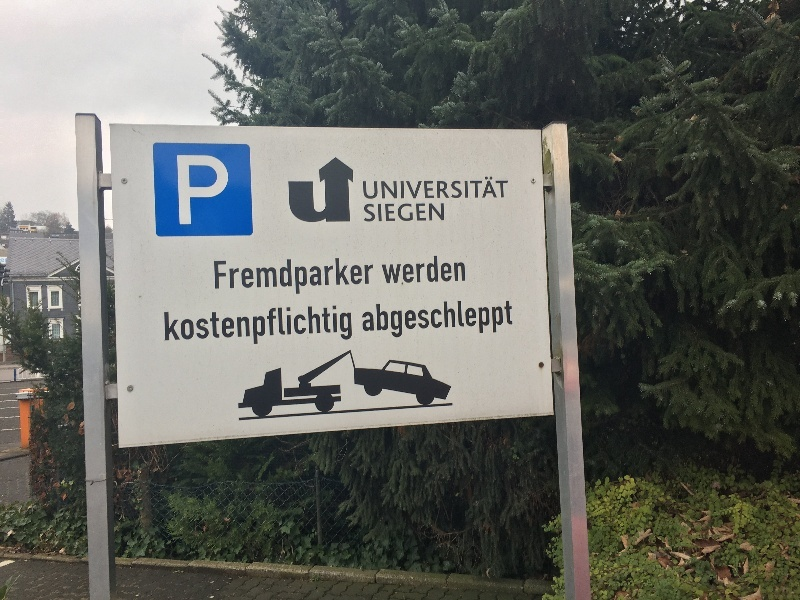text: (177, 155, 192, 226), (193, 155, 208, 226), (209, 155, 224, 226), (497, 301, 513, 341), (177, 304, 192, 346), (193, 304, 208, 346), (209, 304, 224, 346), (225, 304, 240, 346), (241, 304, 256, 346), (257, 304, 272, 346), (273, 304, 288, 346), (289, 304, 304, 346), (305, 304, 320, 346), (321, 304, 336, 346), (337, 304, 352, 346), (225, 258, 240, 298), (241, 258, 256, 298), (257, 258, 272, 298), (273, 258, 288, 298), (289, 258, 304, 298), (305, 258, 320, 298), (321, 258, 336, 298), (337, 258, 352, 298), (353, 258, 368, 298), (369, 301, 384, 341), (385, 301, 400, 341), (401, 301, 416, 341), (417, 301, 432, 341), (433, 301, 448, 341), (449, 301, 464, 341), (465, 301, 480, 341), (481, 301, 496, 341), (385, 251, 400, 285), (401, 251, 416, 285), (417, 251, 432, 285), (433, 251, 448, 285), (449, 251, 464, 285), (164, 304, 176, 346), (214, 258, 224, 298), (369, 176, 384, 201), (385, 176, 400, 201), (401, 176, 416, 201), (417, 176, 432, 201), (433, 176, 448, 201), (449, 176, 464, 201), (465, 176, 480, 201), (481, 176, 496, 201), (369, 203, 384, 222), (385, 203, 400, 222), (401, 203, 416, 222), (417, 203, 432, 222), (225, 155, 229, 226), (497, 176, 508, 201), (433, 203, 445, 222), (369, 258, 374, 298), (363, 301, 368, 341), (381, 251, 384, 285), (364, 176, 368, 201), (364, 203, 368, 222), (465, 251, 466, 285)
